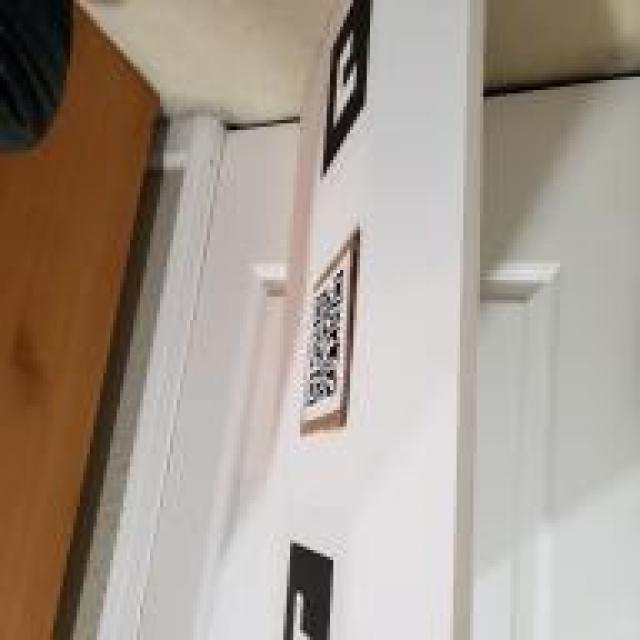qr_code: (306, 271, 344, 407)
